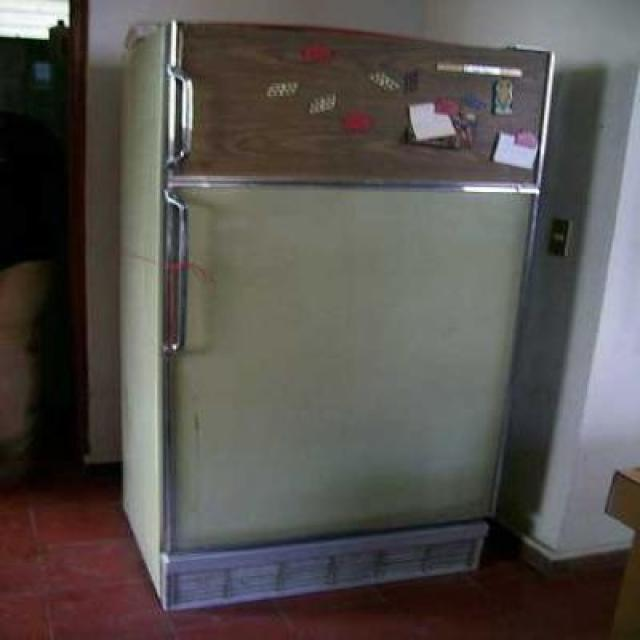refrigerator: (165, 21, 558, 604)
